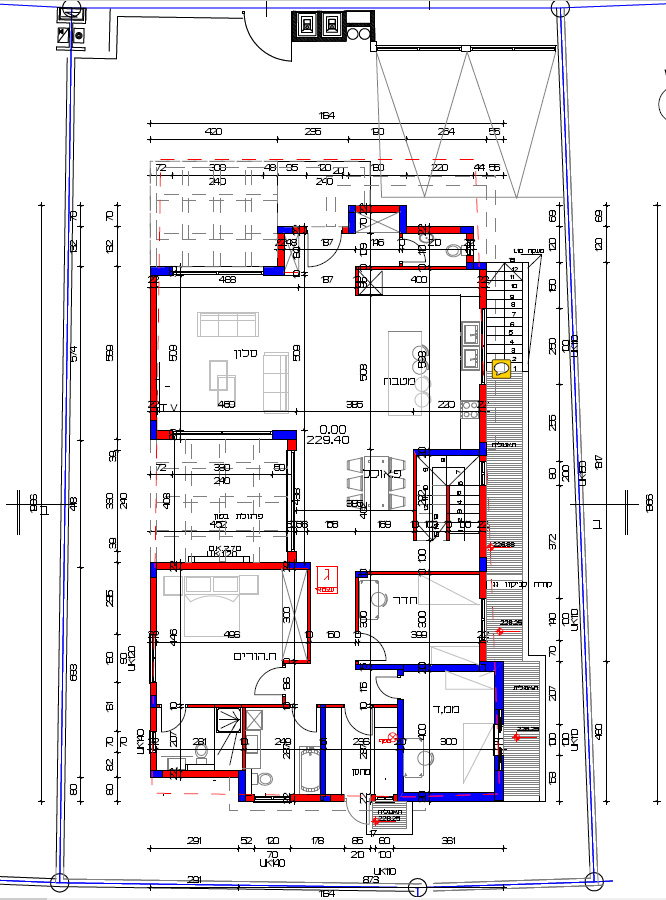door: (248, 666, 280, 699), (156, 709, 188, 742), (357, 630, 389, 663), (366, 673, 396, 700), (288, 711, 319, 735), (342, 711, 373, 735)
window: (285, 451, 296, 551), (175, 266, 262, 276), (181, 430, 268, 440), (478, 308, 486, 383), (479, 599, 486, 641), (253, 795, 289, 802), (374, 794, 393, 803), (478, 462, 485, 486)
